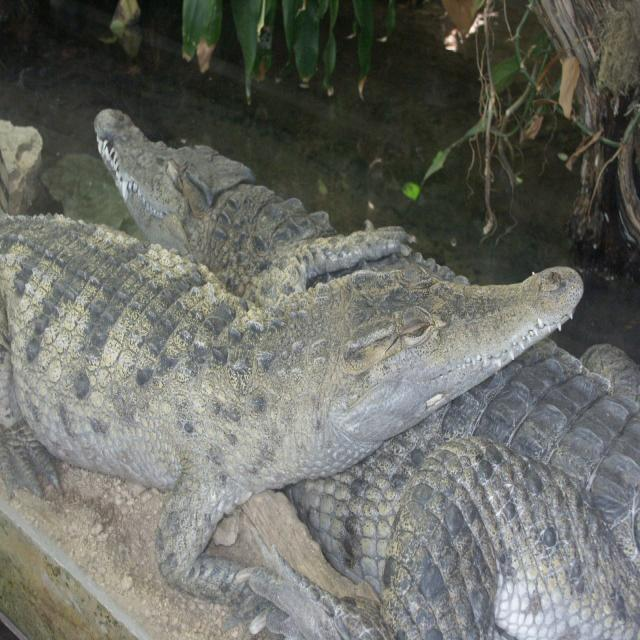not_pig: (92, 106, 640, 640), (0, 207, 585, 619)
